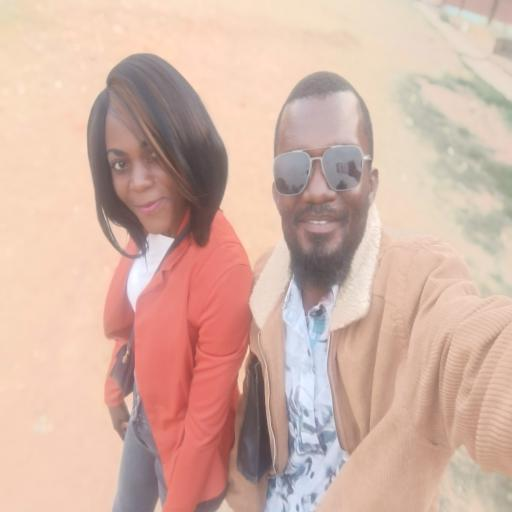MATTHIEU: (272, 73, 385, 279)
